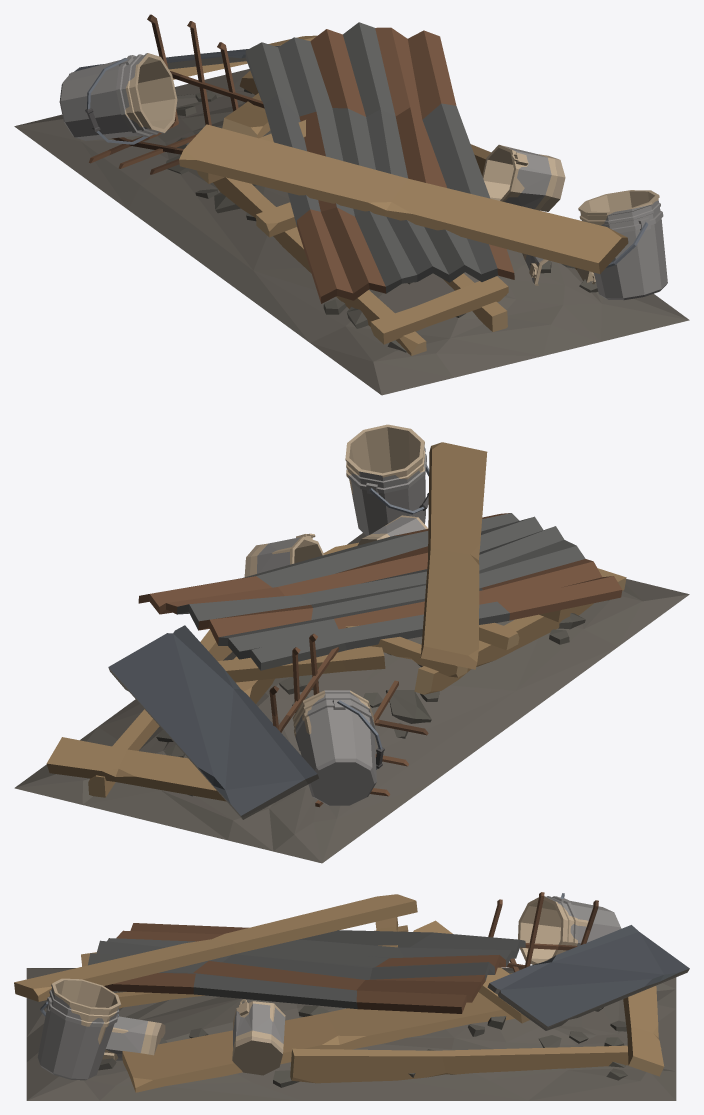
File: SM_Prop_Skip_Large_01_Insert_02.fbx
3 renders of one model, top to bottom at view 1: azimuth 30°, elevation 25°; view 2: azimuth 150°, elevation 25°; view 3: azimuth 270°, elevation 25°, orthographic. The views are drawn at different scales.
Parts seen in each view (by area): view 1: SM_Prop_Skip_Large_01_Insert_02; view 2: SM_Prop_Skip_Large_01_Insert_02; view 3: SM_Prop_Skip_Large_01_Insert_02.
Boxes of the visible parts, x1,y1,x2,y2 form: SM_Prop_Skip_Large_01_Insert_02: (14,14,689,395); SM_Prop_Skip_Large_01_Insert_02: (14,424,689,863); SM_Prop_Skip_Large_01_Insert_02: (14,892,689,1100).
Size of the model in its own units: 196 by 87.36 by 420.
